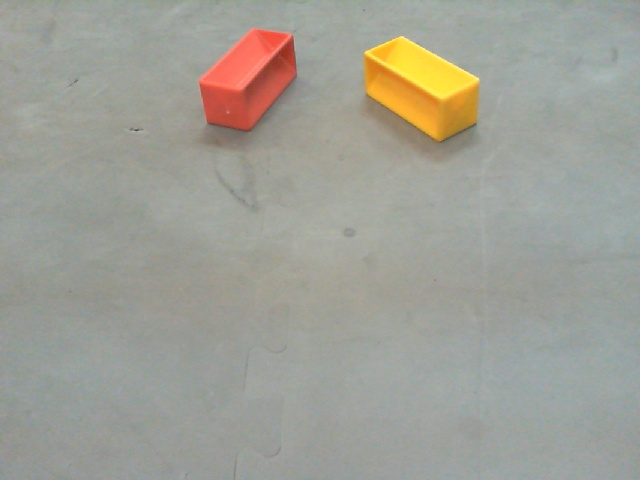RedSample: (197, 27, 297, 133)
YellowSample: (360, 33, 480, 144)
